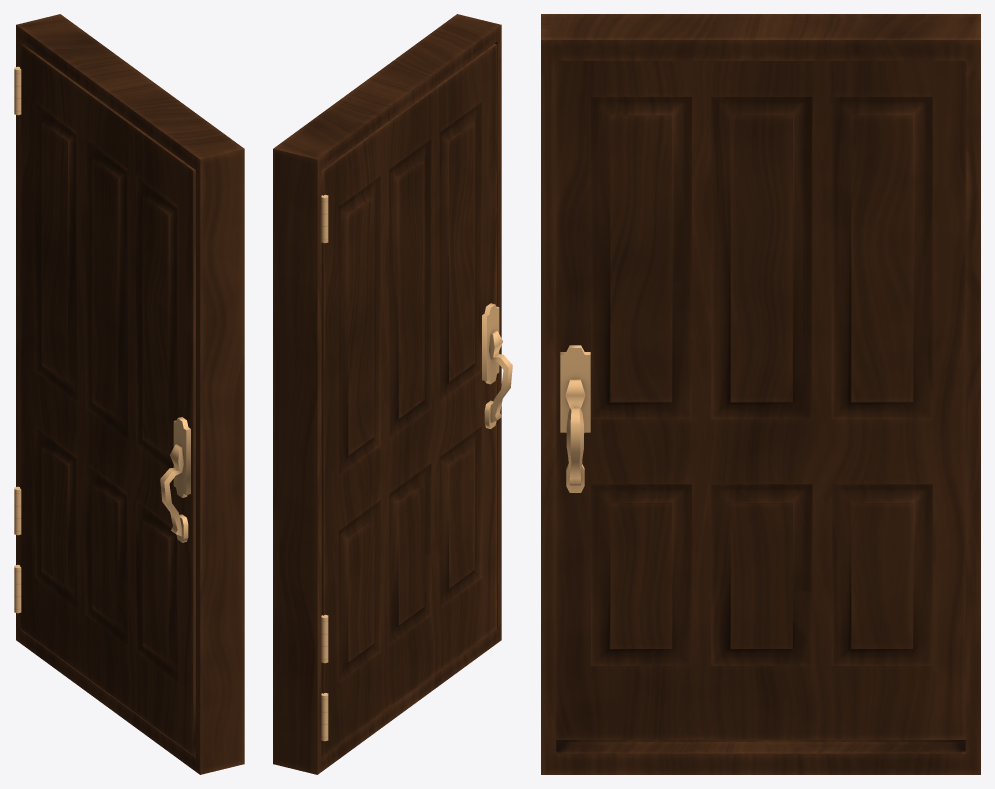
The model's file is Door_Border_In_B.fbx.
3 renders of one model, left to right at view 1: azimuth 30°, elevation 25°; view 2: azimuth 150°, elevation 25°; view 3: azimuth 270°, elevation 25°, orthographic. The views are drawn at different scales.
Parts seen in each view (by area): view 1: U_Door_B, U_Door_Border_In_B, U_Handle_B, U_Hinge; view 2: U_Door_B, U_Door_Border_In_B, U_Handle_B, U_Hinge; view 3: U_Door_B, U_Door_Border_In_B, U_Handle_B.
Part boxes in pixels (box(x1,y1,x2,y2)): U_Door_B: box(20, 43, 195, 755); U_Door_Border_In_B: box(16, 14, 244, 774); U_Handle_B: box(160, 417, 190, 542); U_Hinge: box(14, 66, 21, 613); U_Door_B: box(321, 44, 496, 755); U_Door_Border_In_B: box(273, 14, 501, 774); U_Handle_B: box(482, 303, 512, 428); U_Hinge: box(321, 194, 328, 741); U_Door_B: box(556, 61, 965, 739); U_Door_Border_In_B: box(541, 14, 980, 774); U_Handle_B: box(560, 345, 590, 492).
Size of the model in its own units: 28.89 by 250 by 136.
Materials: 1 (1 with a texture image).
